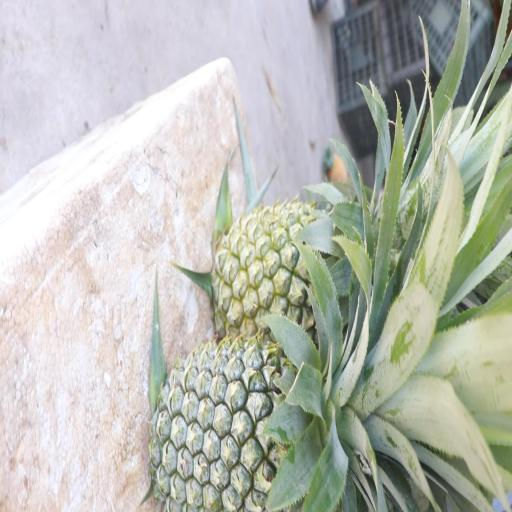Pineapple - v8 v1: (210, 200, 388, 340)
